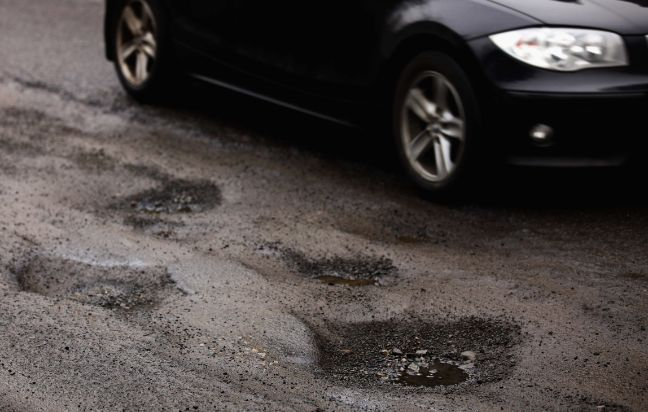pothole: (295, 308, 536, 401), (11, 248, 192, 317), (107, 170, 228, 220), (291, 253, 400, 290)
